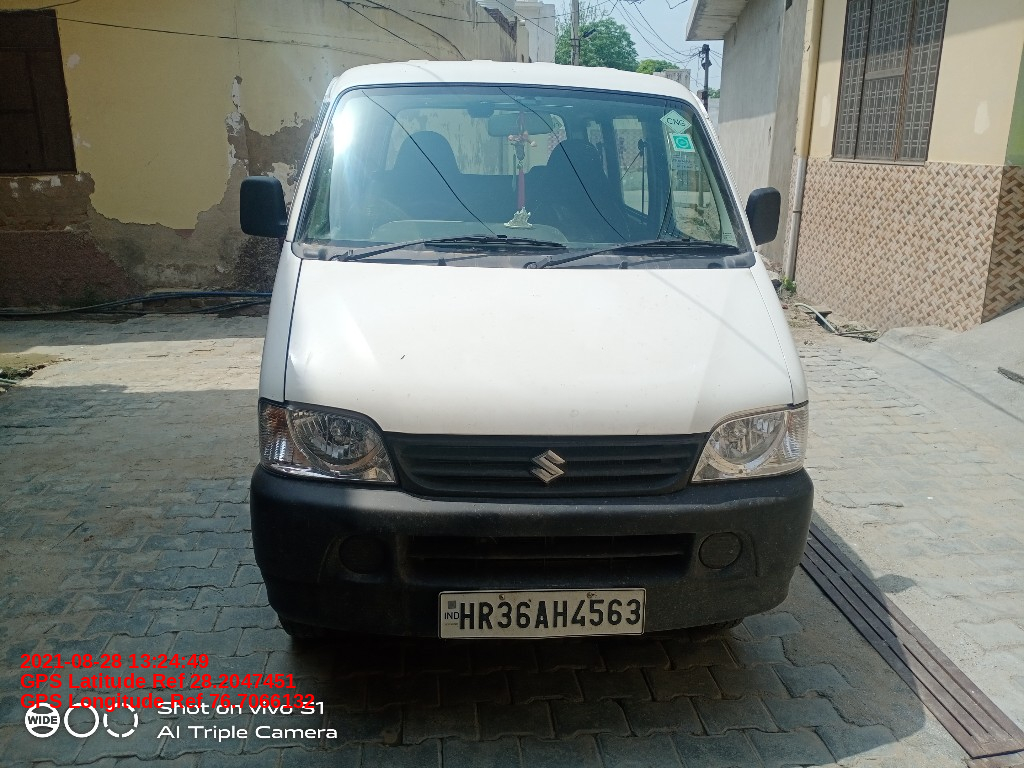Pressed: (289, 350, 317, 386)
Scratched: (393, 353, 412, 363)
